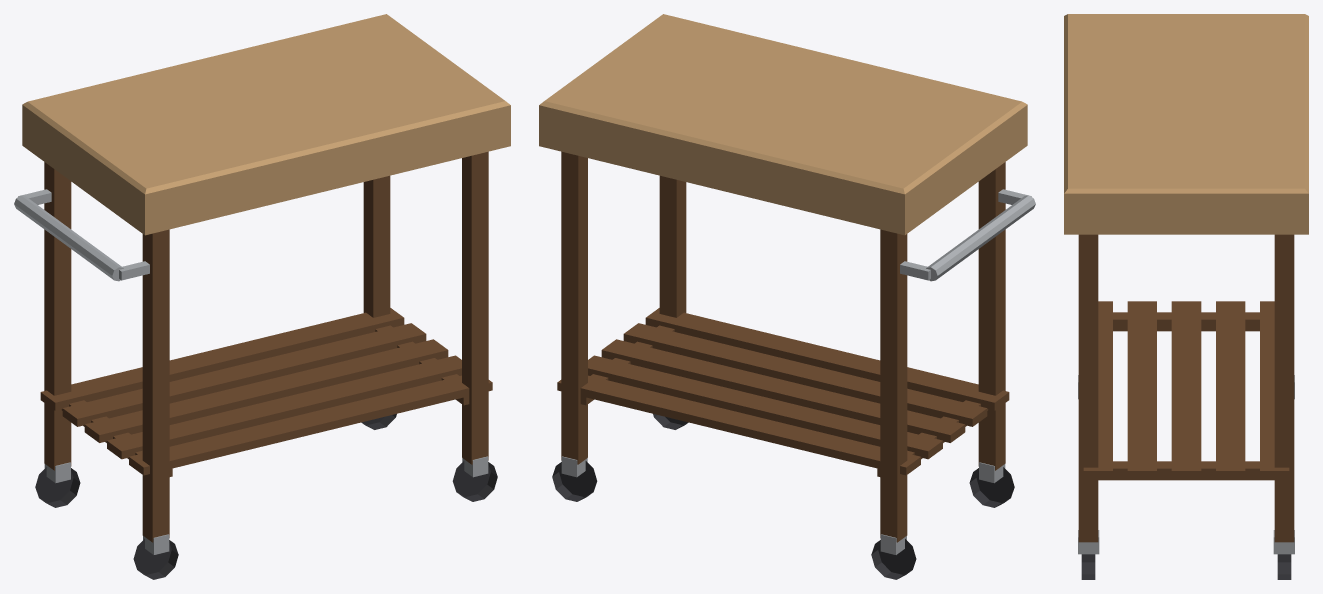
File: FN_Trolley_Butcher.glb
3 views of the same model, side by side, from view 1: azimuth 30°, elevation 25°; view 2: azimuth 150°, elevation 25°; view 3: azimuth 270°, elevation 25° (orthographic).
Parts seen in each view (by area): view 1: FN_Trolley_Butcher; view 2: FN_Trolley_Butcher; view 3: FN_Trolley_Butcher.
Part boxes in pixels (x1,y1,x2,y2): FN_Trolley_Butcher: (14, 14, 510, 579); FN_Trolley_Butcher: (539, 14, 1035, 579); FN_Trolley_Butcher: (1064, 14, 1308, 579).
Size of the model in its own units: 0.908 by 0.8978 by 0.5.
1 material, 1 textured.
